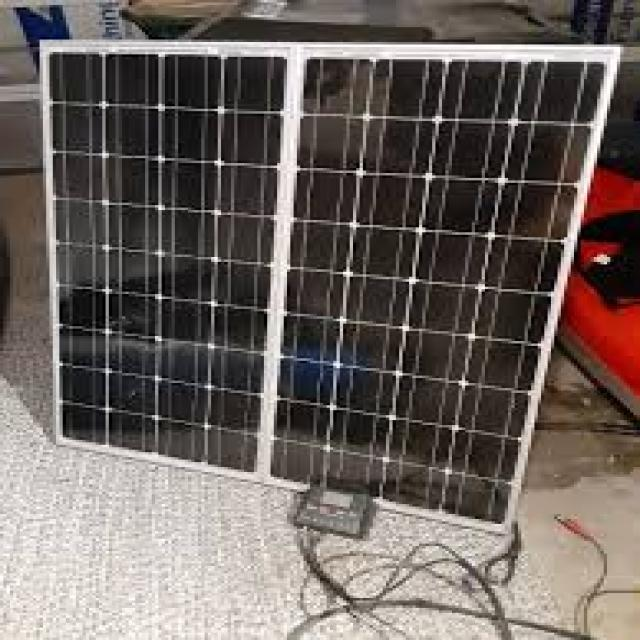no faulty: (53, 26, 532, 473)
